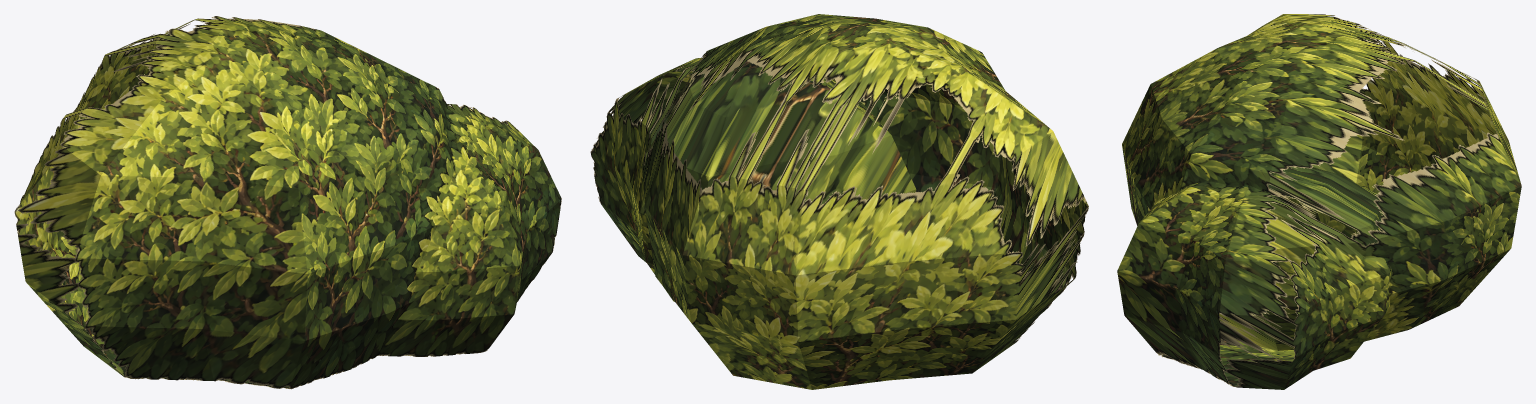
Rendered from bush_c.glb.
3 views of the same model, side by side, from view 1: azimuth 30°, elevation 25°; view 2: azimuth 150°, elevation 25°; view 3: azimuth 270°, elevation 25° (orthographic). The views are drawn at different scales.
Parts seen in each view (by area): view 1: bush_c_game; view 2: bush_c_game; view 3: bush_c_game.
Part boxes in pixels (x1=…): bush_c_game: x1=14, y1=16, x2=561, y2=389; bush_c_game: x1=590, y1=14, x2=1088, y2=389; bush_c_game: x1=1117, y1=14, x2=1521, y2=389.
Bounding box in the file's own units: 1.83 × 1.05 × 1.52.
Materials: 1 (1 with a texture image).
